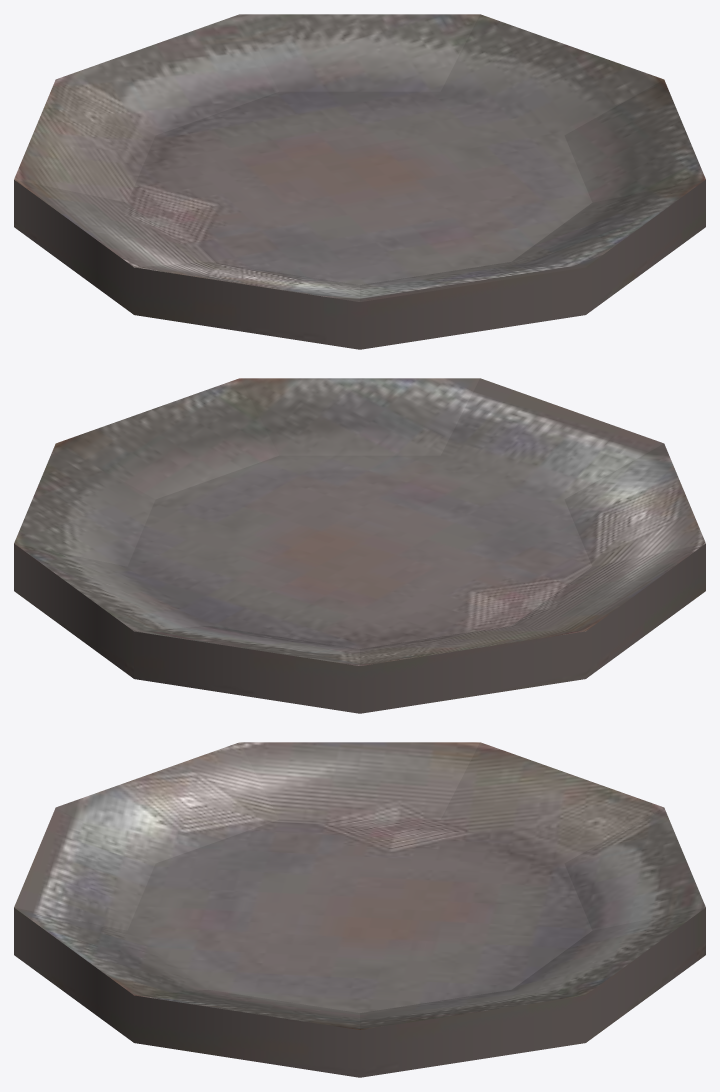
The model's file is Plato 2.FBX.
3 renders of one model, top to bottom at view 1: azimuth 30°, elevation 25°; view 2: azimuth 150°, elevation 25°; view 3: azimuth 270°, elevation 25°, orthographic.
Visible parts, largest first — view 1: Plato balanza 2; view 2: Plato balanza 2; view 3: Plato balanza 2.
Boxes of the visible parts, x1,y1,x2,y2 form: Plato balanza 2: [14, 14, 705, 349]; Plato balanza 2: [14, 378, 705, 713]; Plato balanza 2: [14, 742, 705, 1077].
Bounding box in the file's own units: 31.48 × 2.43 × 31.97.
